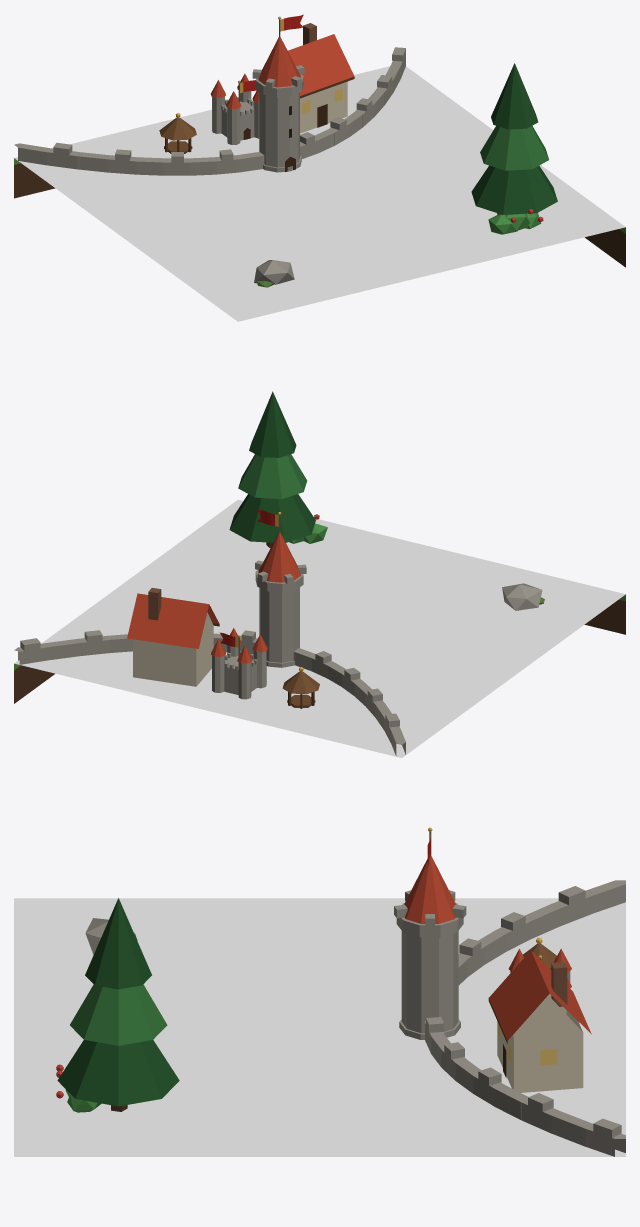
Rendered from capRS.glb.
The picture shows the model from 3 angles, top to bottom: view 1: azimuth 30°, elevation 25°; view 2: azimuth 150°, elevation 25°; view 3: azimuth 270°, elevation 25°; orthographic projection. The views are drawn at different scales.
Visible parts, largest first — view 1: capRS; view 2: capRS; view 3: capRS.
Boxes of the visible parts, box(x1,y1,x2,y2) form: capRS: box(14, 14, 625, 321); capRS: box(14, 391, 625, 757); capRS: box(14, 827, 625, 1156).
Size of the model in its own units: 2 by 0.96 by 2.
